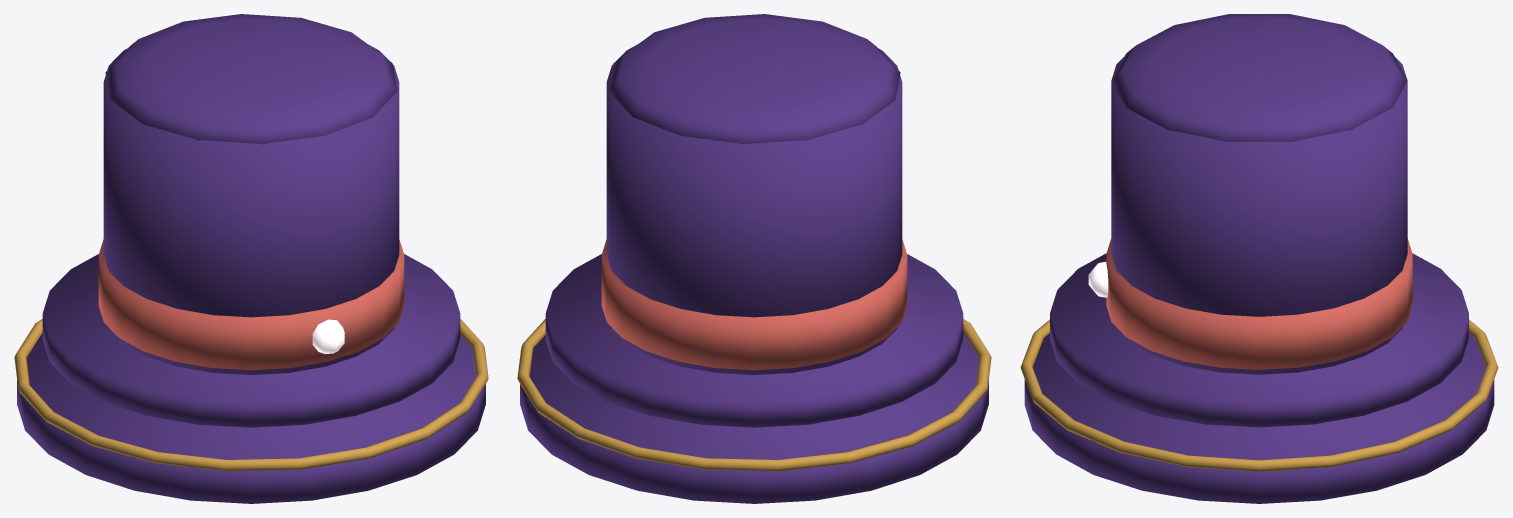
File: opera_magician_hat_0.glb
3 renders of one model, left to right at view 1: azimuth 30°, elevation 25°; view 2: azimuth 150°, elevation 25°; view 3: azimuth 270°, elevation 25°, orthographic.
Visible parts, largest first — view 1: VisualMesh; view 2: VisualMesh; view 3: VisualMesh.
Boxes of the visible parts, left/top/right/bottom form: VisualMesh: left=14, top=14, right=488, bottom=503; VisualMesh: left=517, top=14, right=991, bottom=503; VisualMesh: left=1020, top=14, right=1498, bottom=503.
Size of the model in its own units: 4.68 by 3.79 by 4.68.
